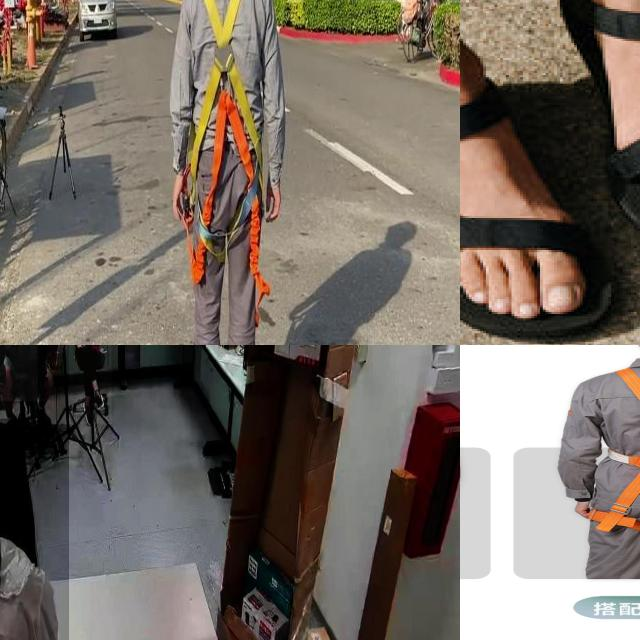Harness: (188, 0, 270, 304), (603, 365, 640, 528)
Sandals: (460, 54, 616, 338), (564, 0, 640, 242)
hand_noglove: (75, 345, 86, 348)
head_nohelmet: (0, 419, 26, 474)
person: (0, 424, 69, 640), (69, 345, 112, 425), (0, 345, 38, 402)
